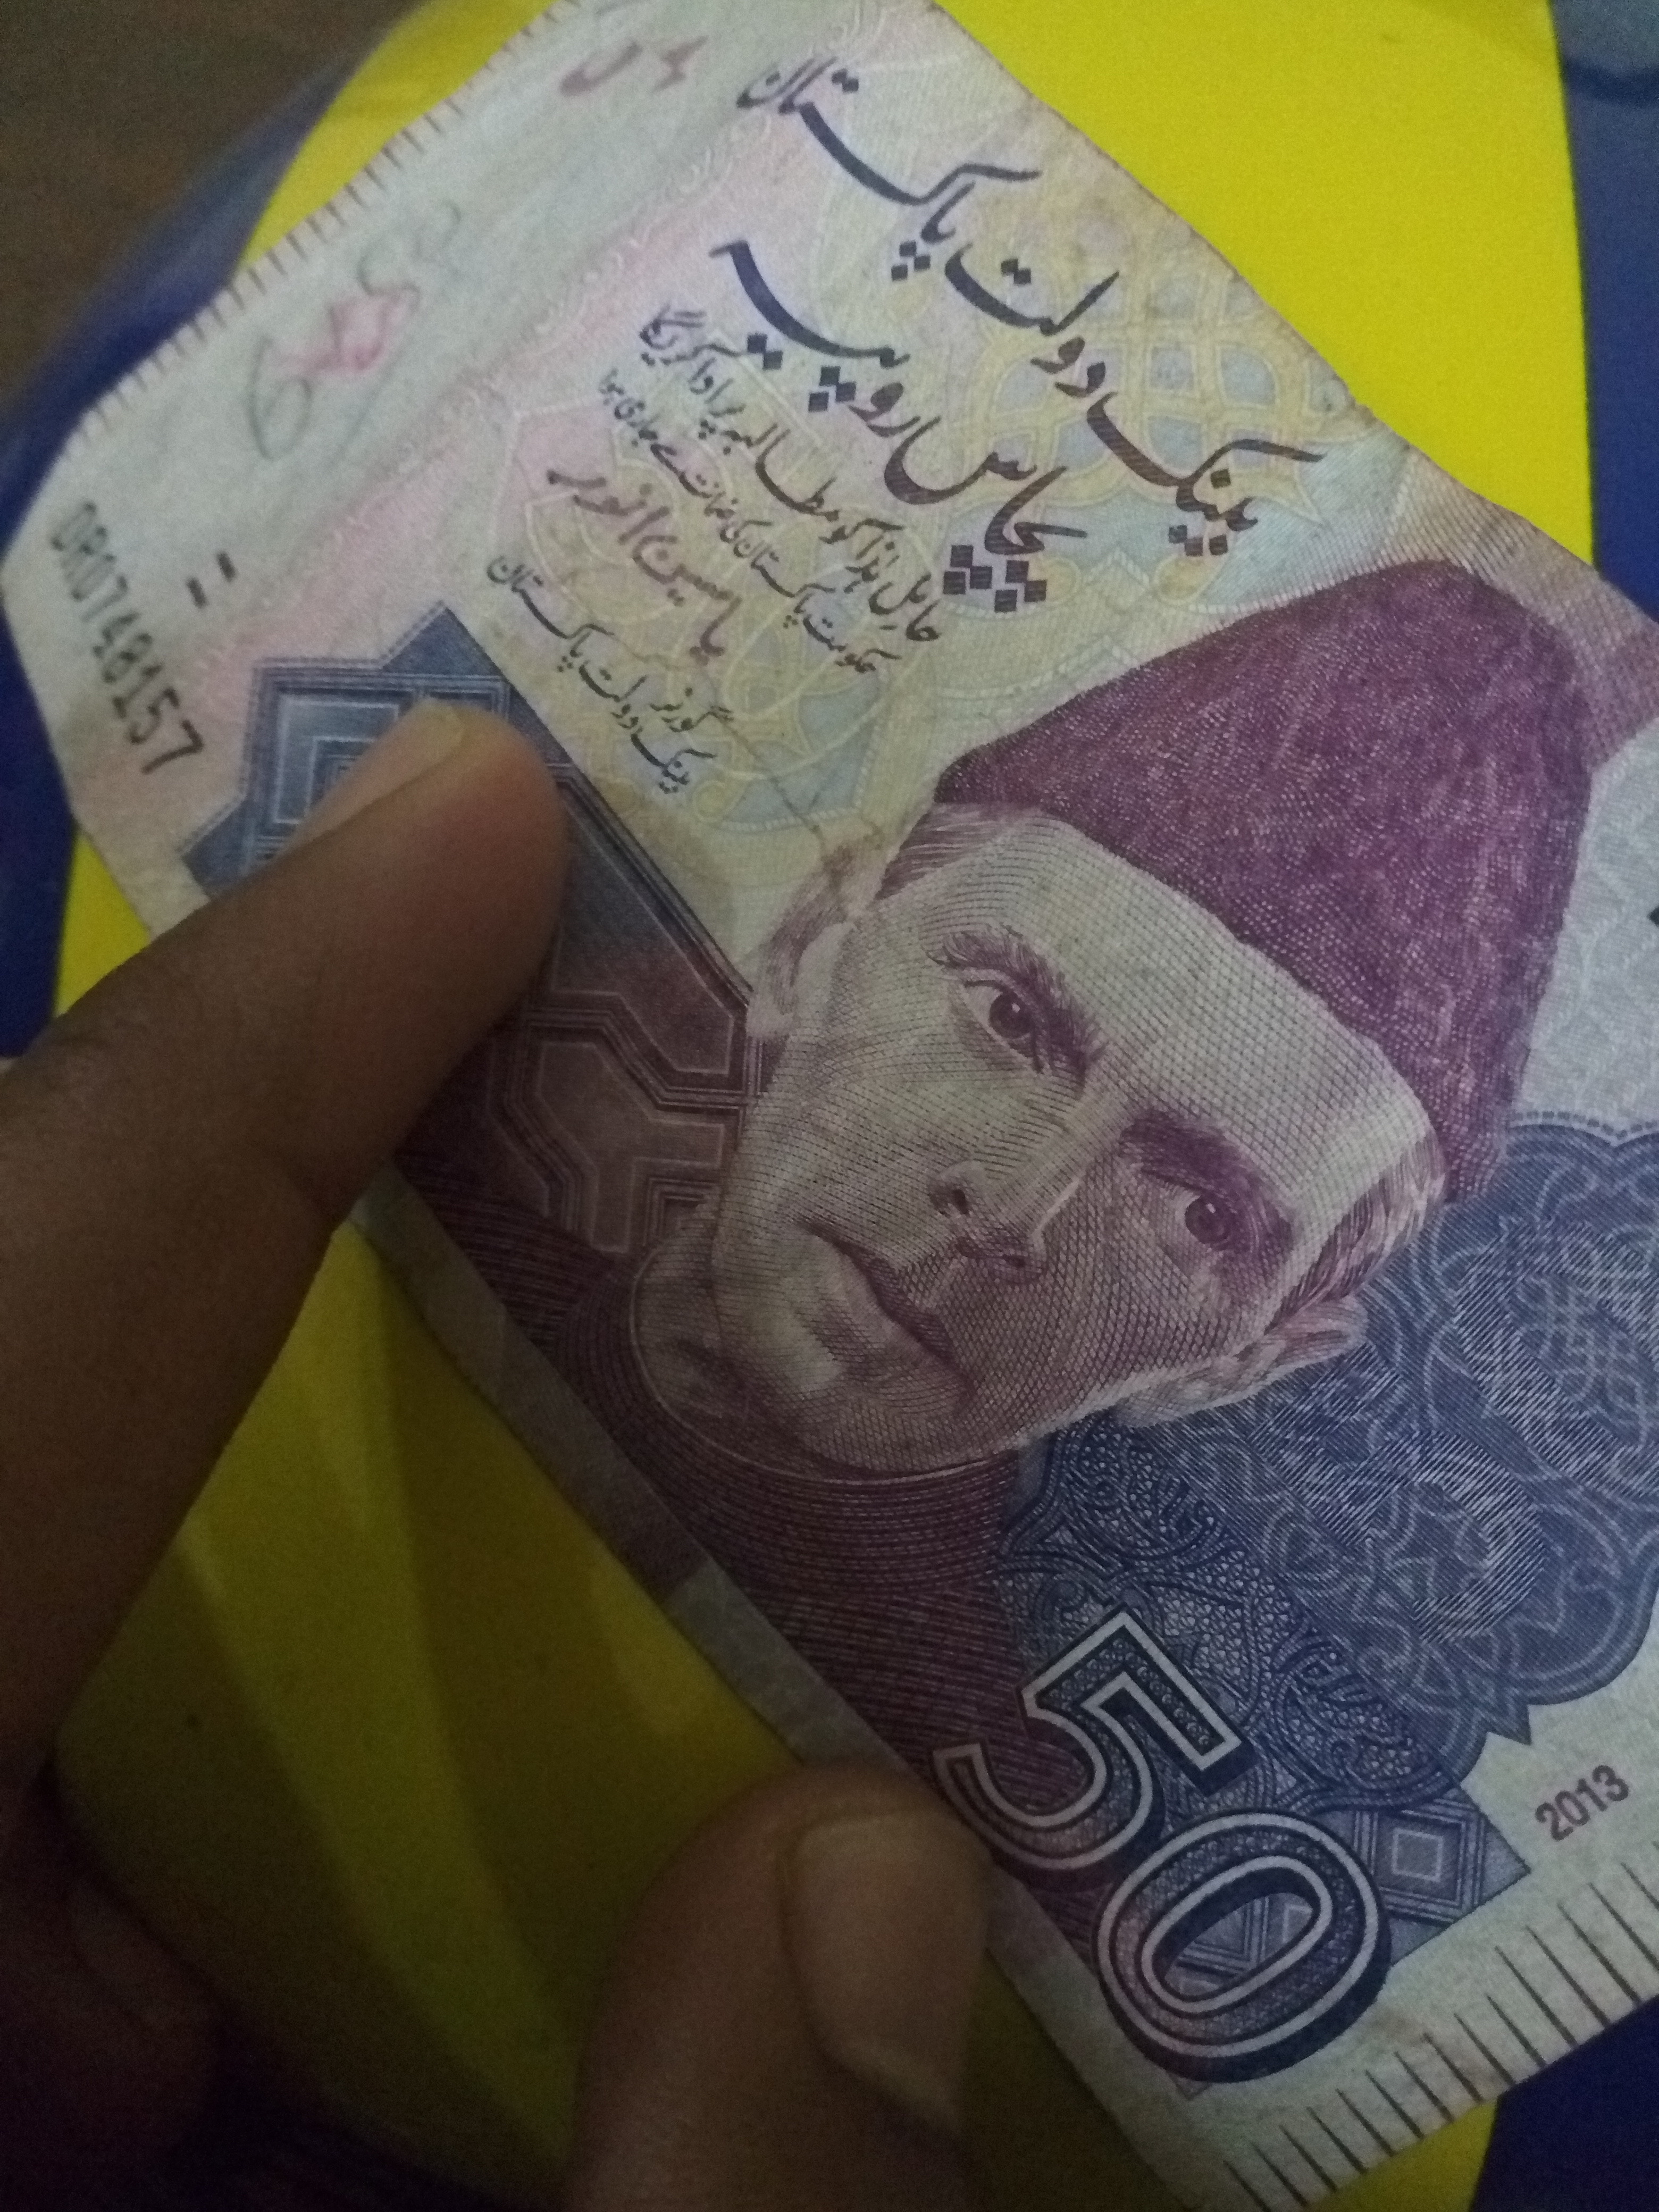50 rupee: (54, 56, 1624, 2189)
